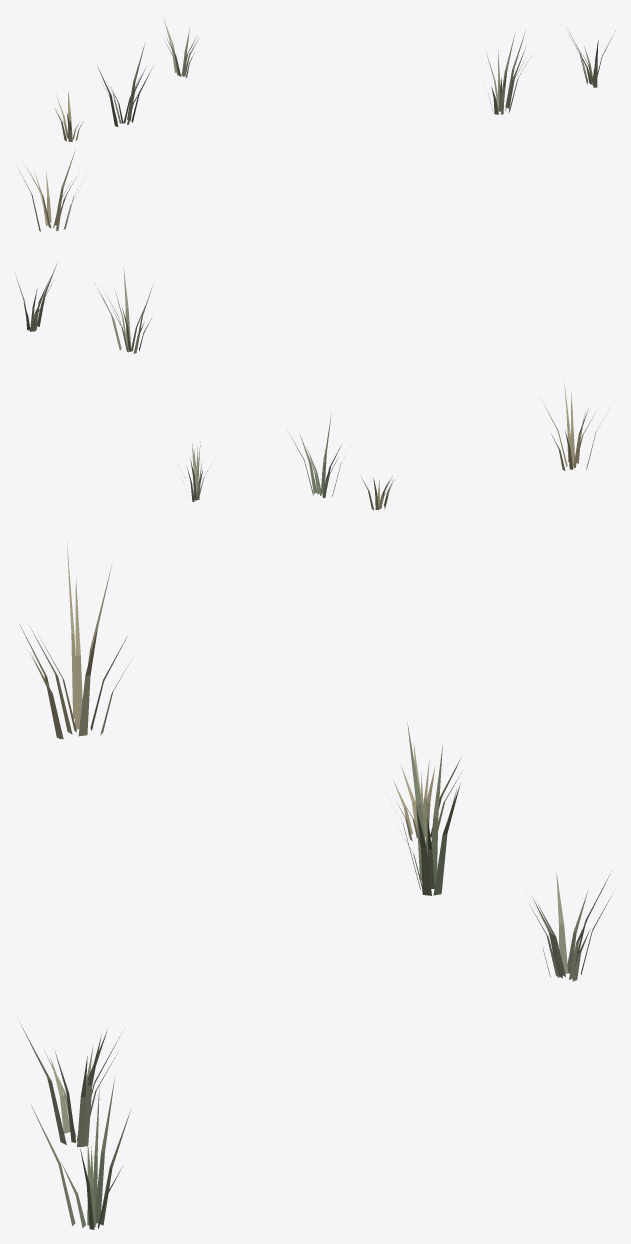
Rendered from AE_Grass_1_3.fbx.
The picture shows the model from 3 angles, top to bottom: view 1: azimuth 30°, elevation 25°; view 2: azimuth 150°, elevation 25°; view 3: azimuth 270°, elevation 25°; orthographic projection. The views are drawn at different scales.
Visible parts, largest first — view 1: AE_Grass_1_3_LOD0; view 2: AE_Grass_1_3_LOD0; view 3: AE_Grass_1_3_LOD0.
Part boxes in pixels (x1=…): AE_Grass_1_3_LOD0: x1=18, y1=18, x2=615, y2=231; AE_Grass_1_3_LOD0: x1=15, y1=264, x2=606, y2=509; AE_Grass_1_3_LOD0: x1=17, y1=543, x2=612, y2=1229.
Size of what is drawn, in the model's own units: 726 by 93.89 by 324.
